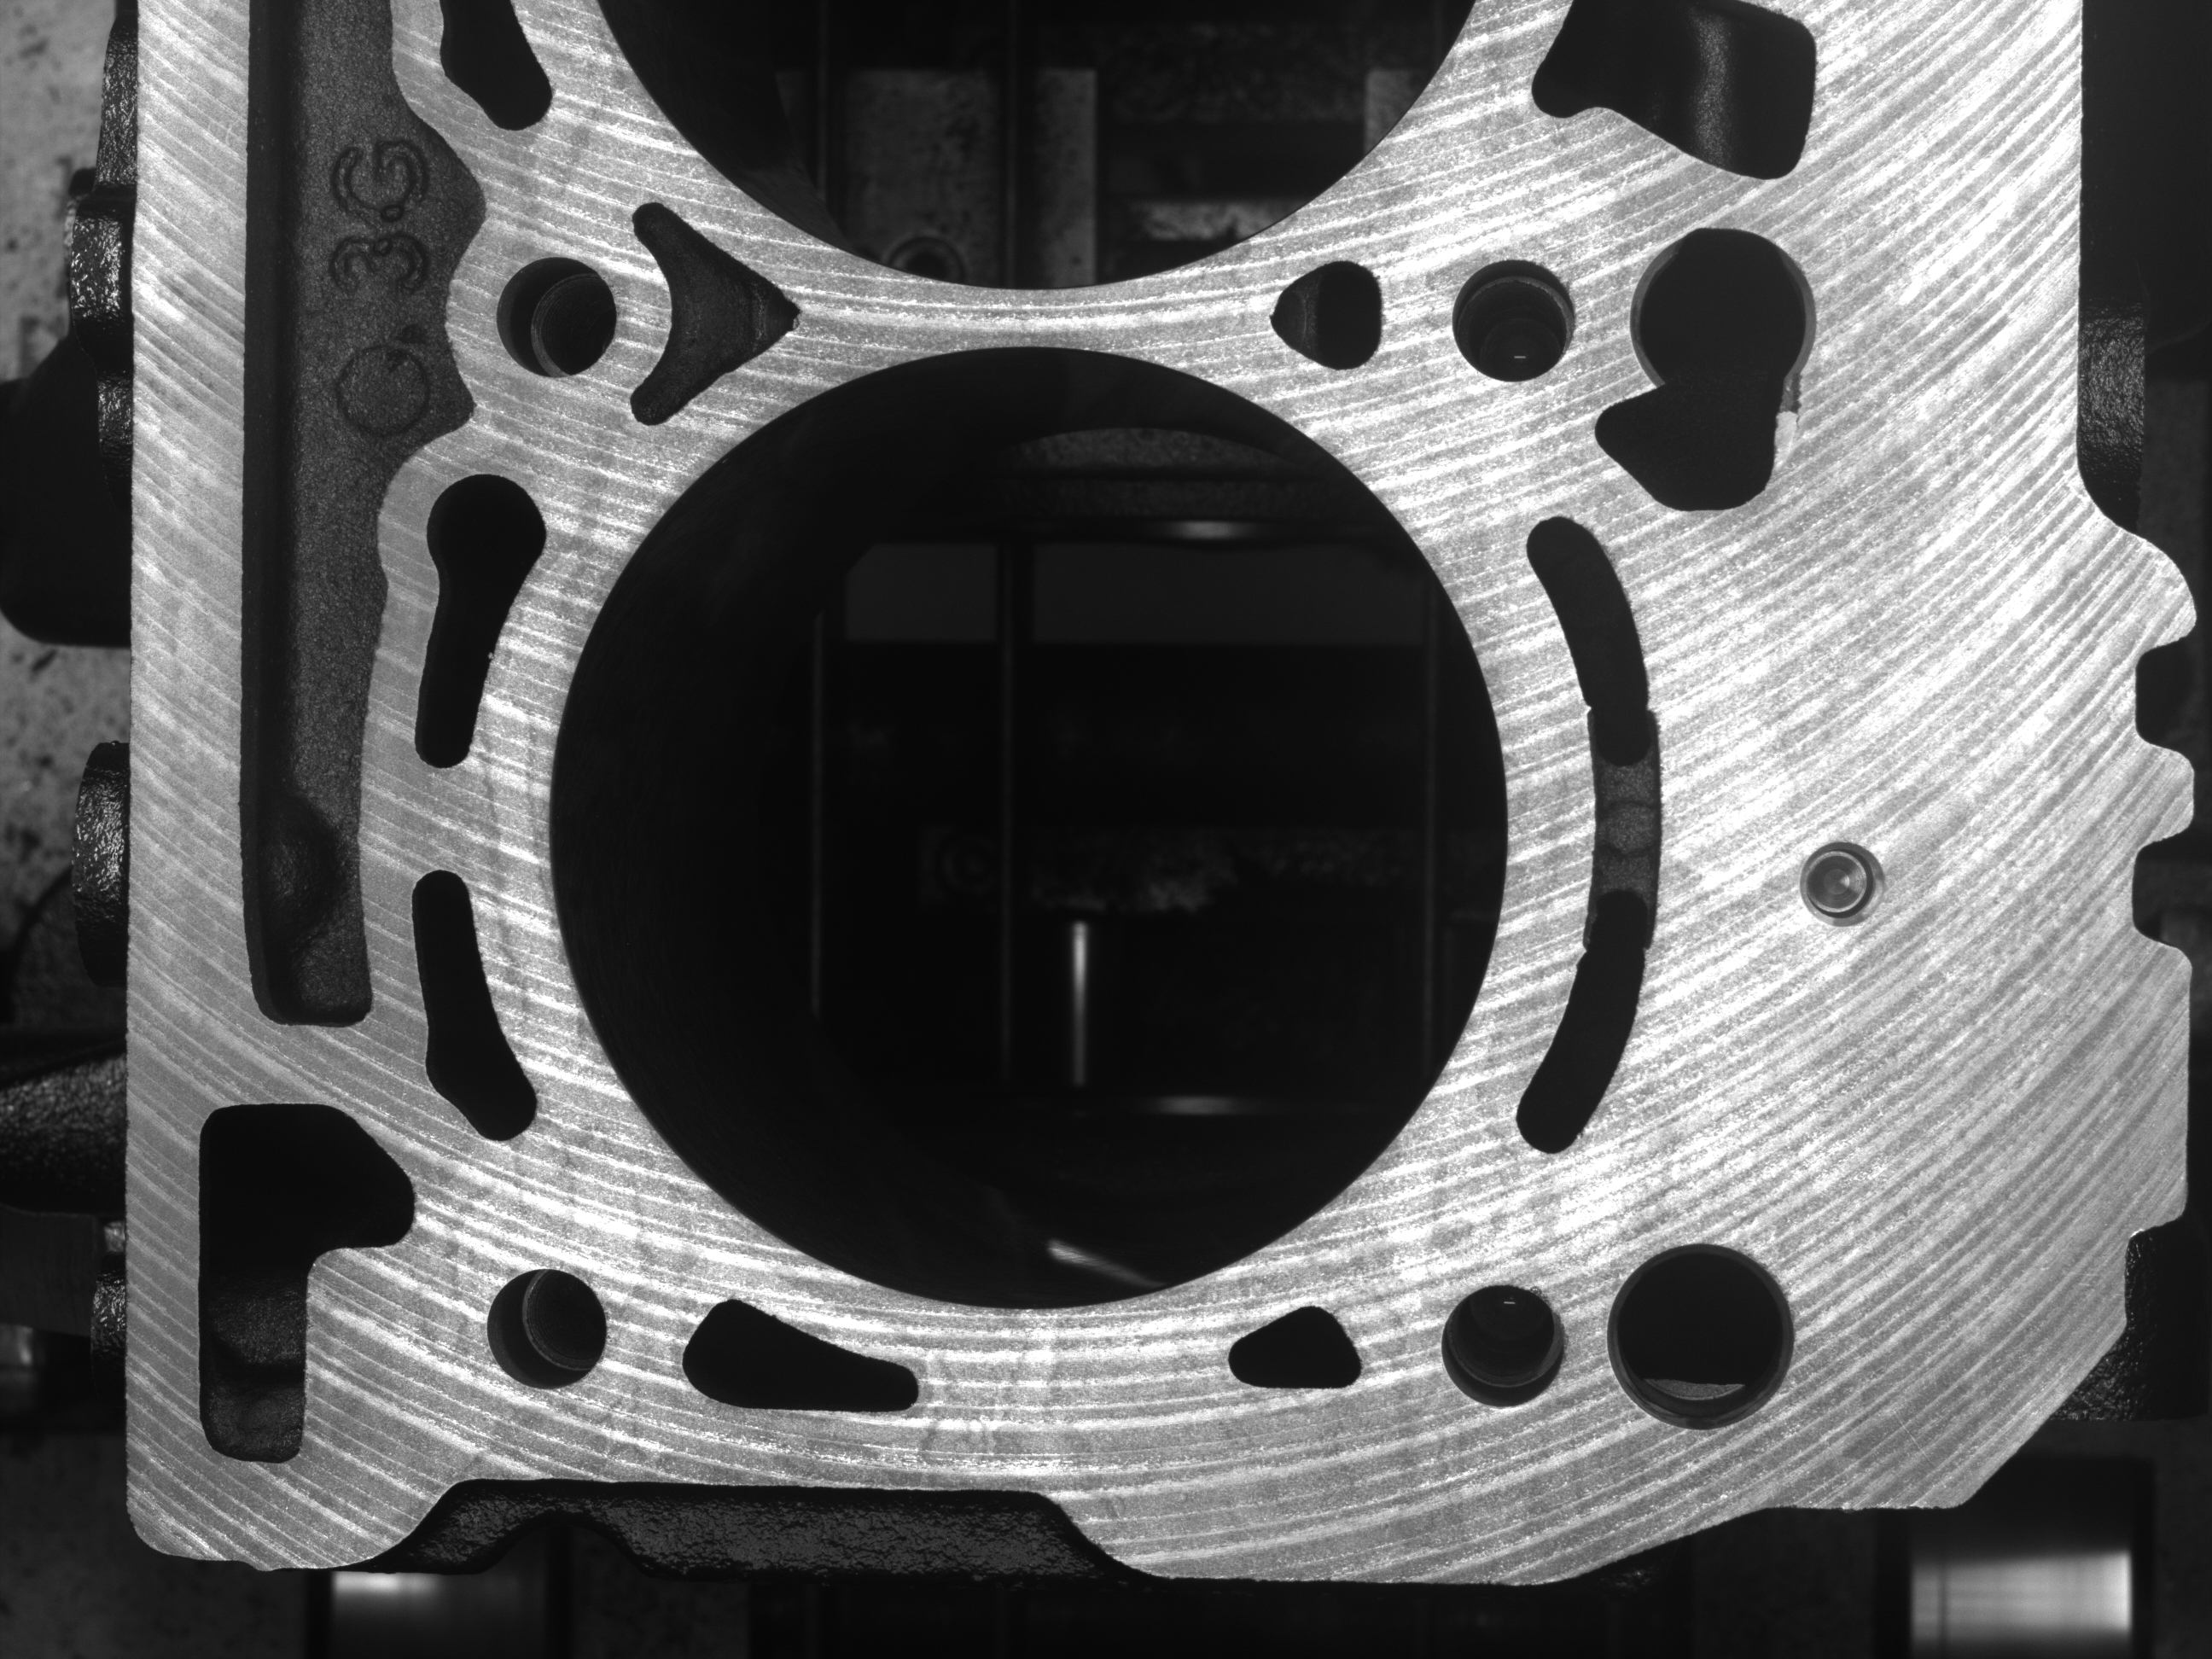shrinkage: (1768, 366, 1801, 465)
